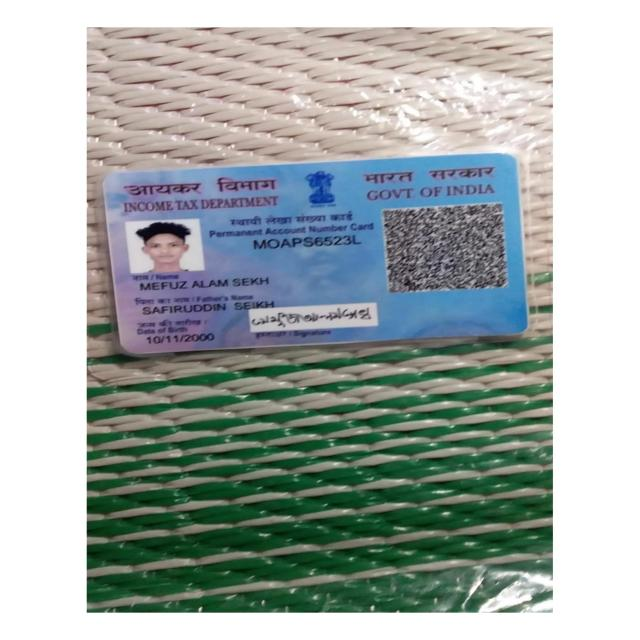pan_card: (107, 155, 525, 354)
